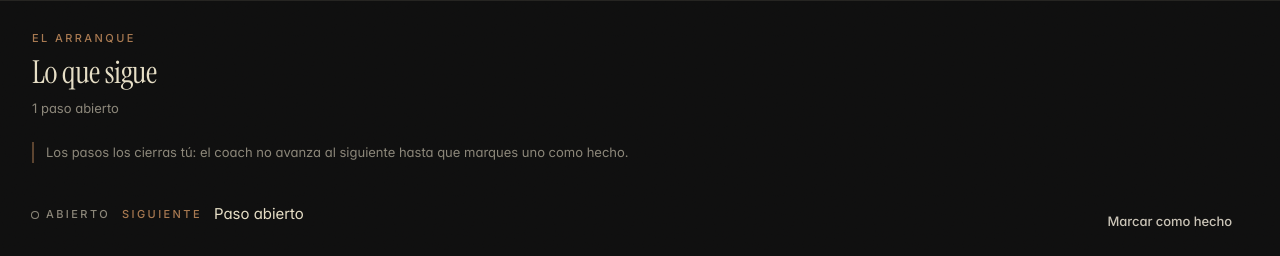
it: ArranqueSection — the steps the coach and the person agreed on › completes a step through the API, and opens it back
Click the button "Marcar como hecho" at (1170, 221), box 1092,203 -> 1248,239
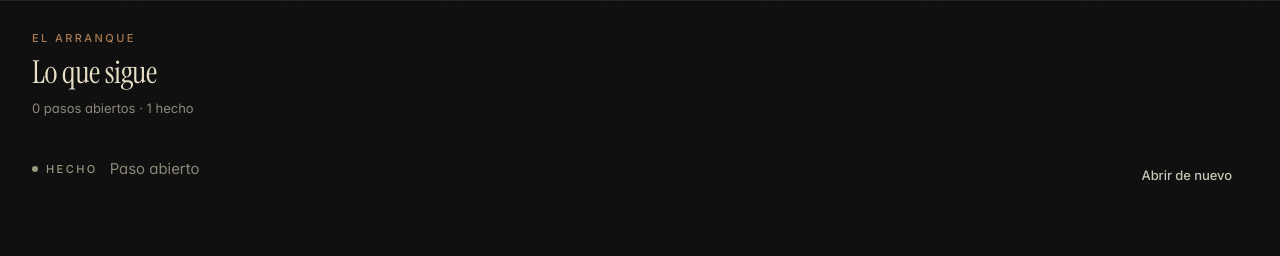
Now the button "Abrir de nuevo" is shown
Click the button "Abrir de nuevo" at (1187, 176), box 1126,158 -> 1248,194
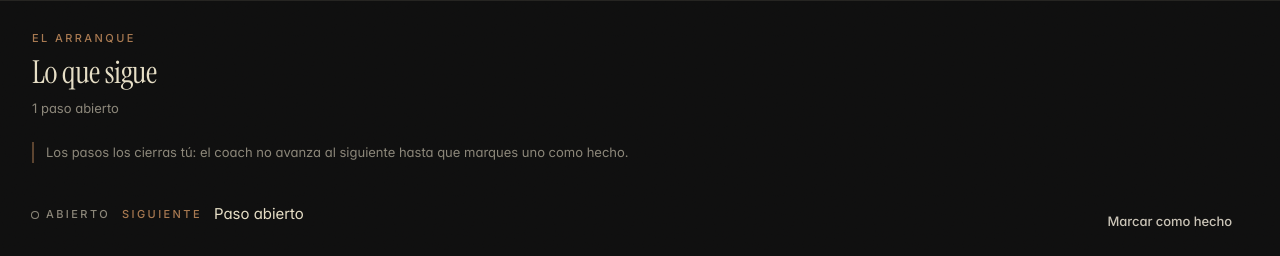
Now the button "Marcar como hecho" is shown, box 1092,203 -> 1248,239
